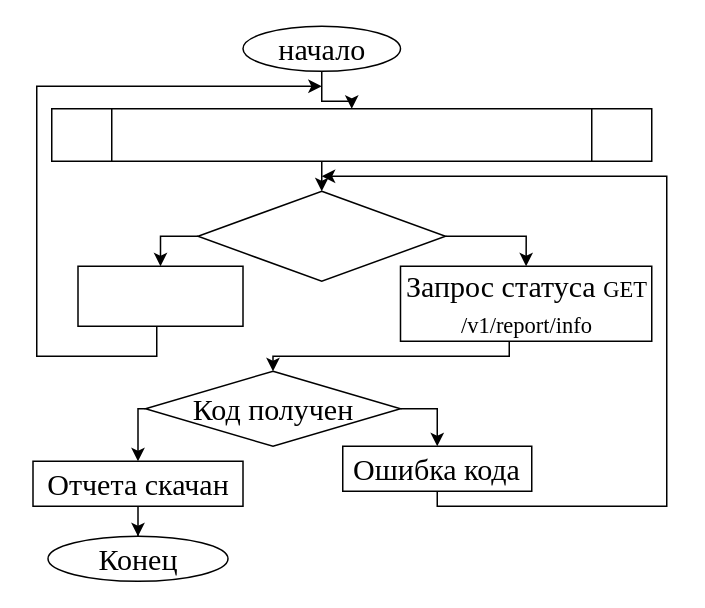
Image size: 705x608. Some labels were removed from this diagram. The shapes that lost their labels are listed below. From the top down, each one's centre as x and y in pixels, then its label:
At pixel 351 134: "создания отчета POST v1/report/sales".
At pixel 321 235: "отчет создан".
At pixel 159 295: "ошибка API".
